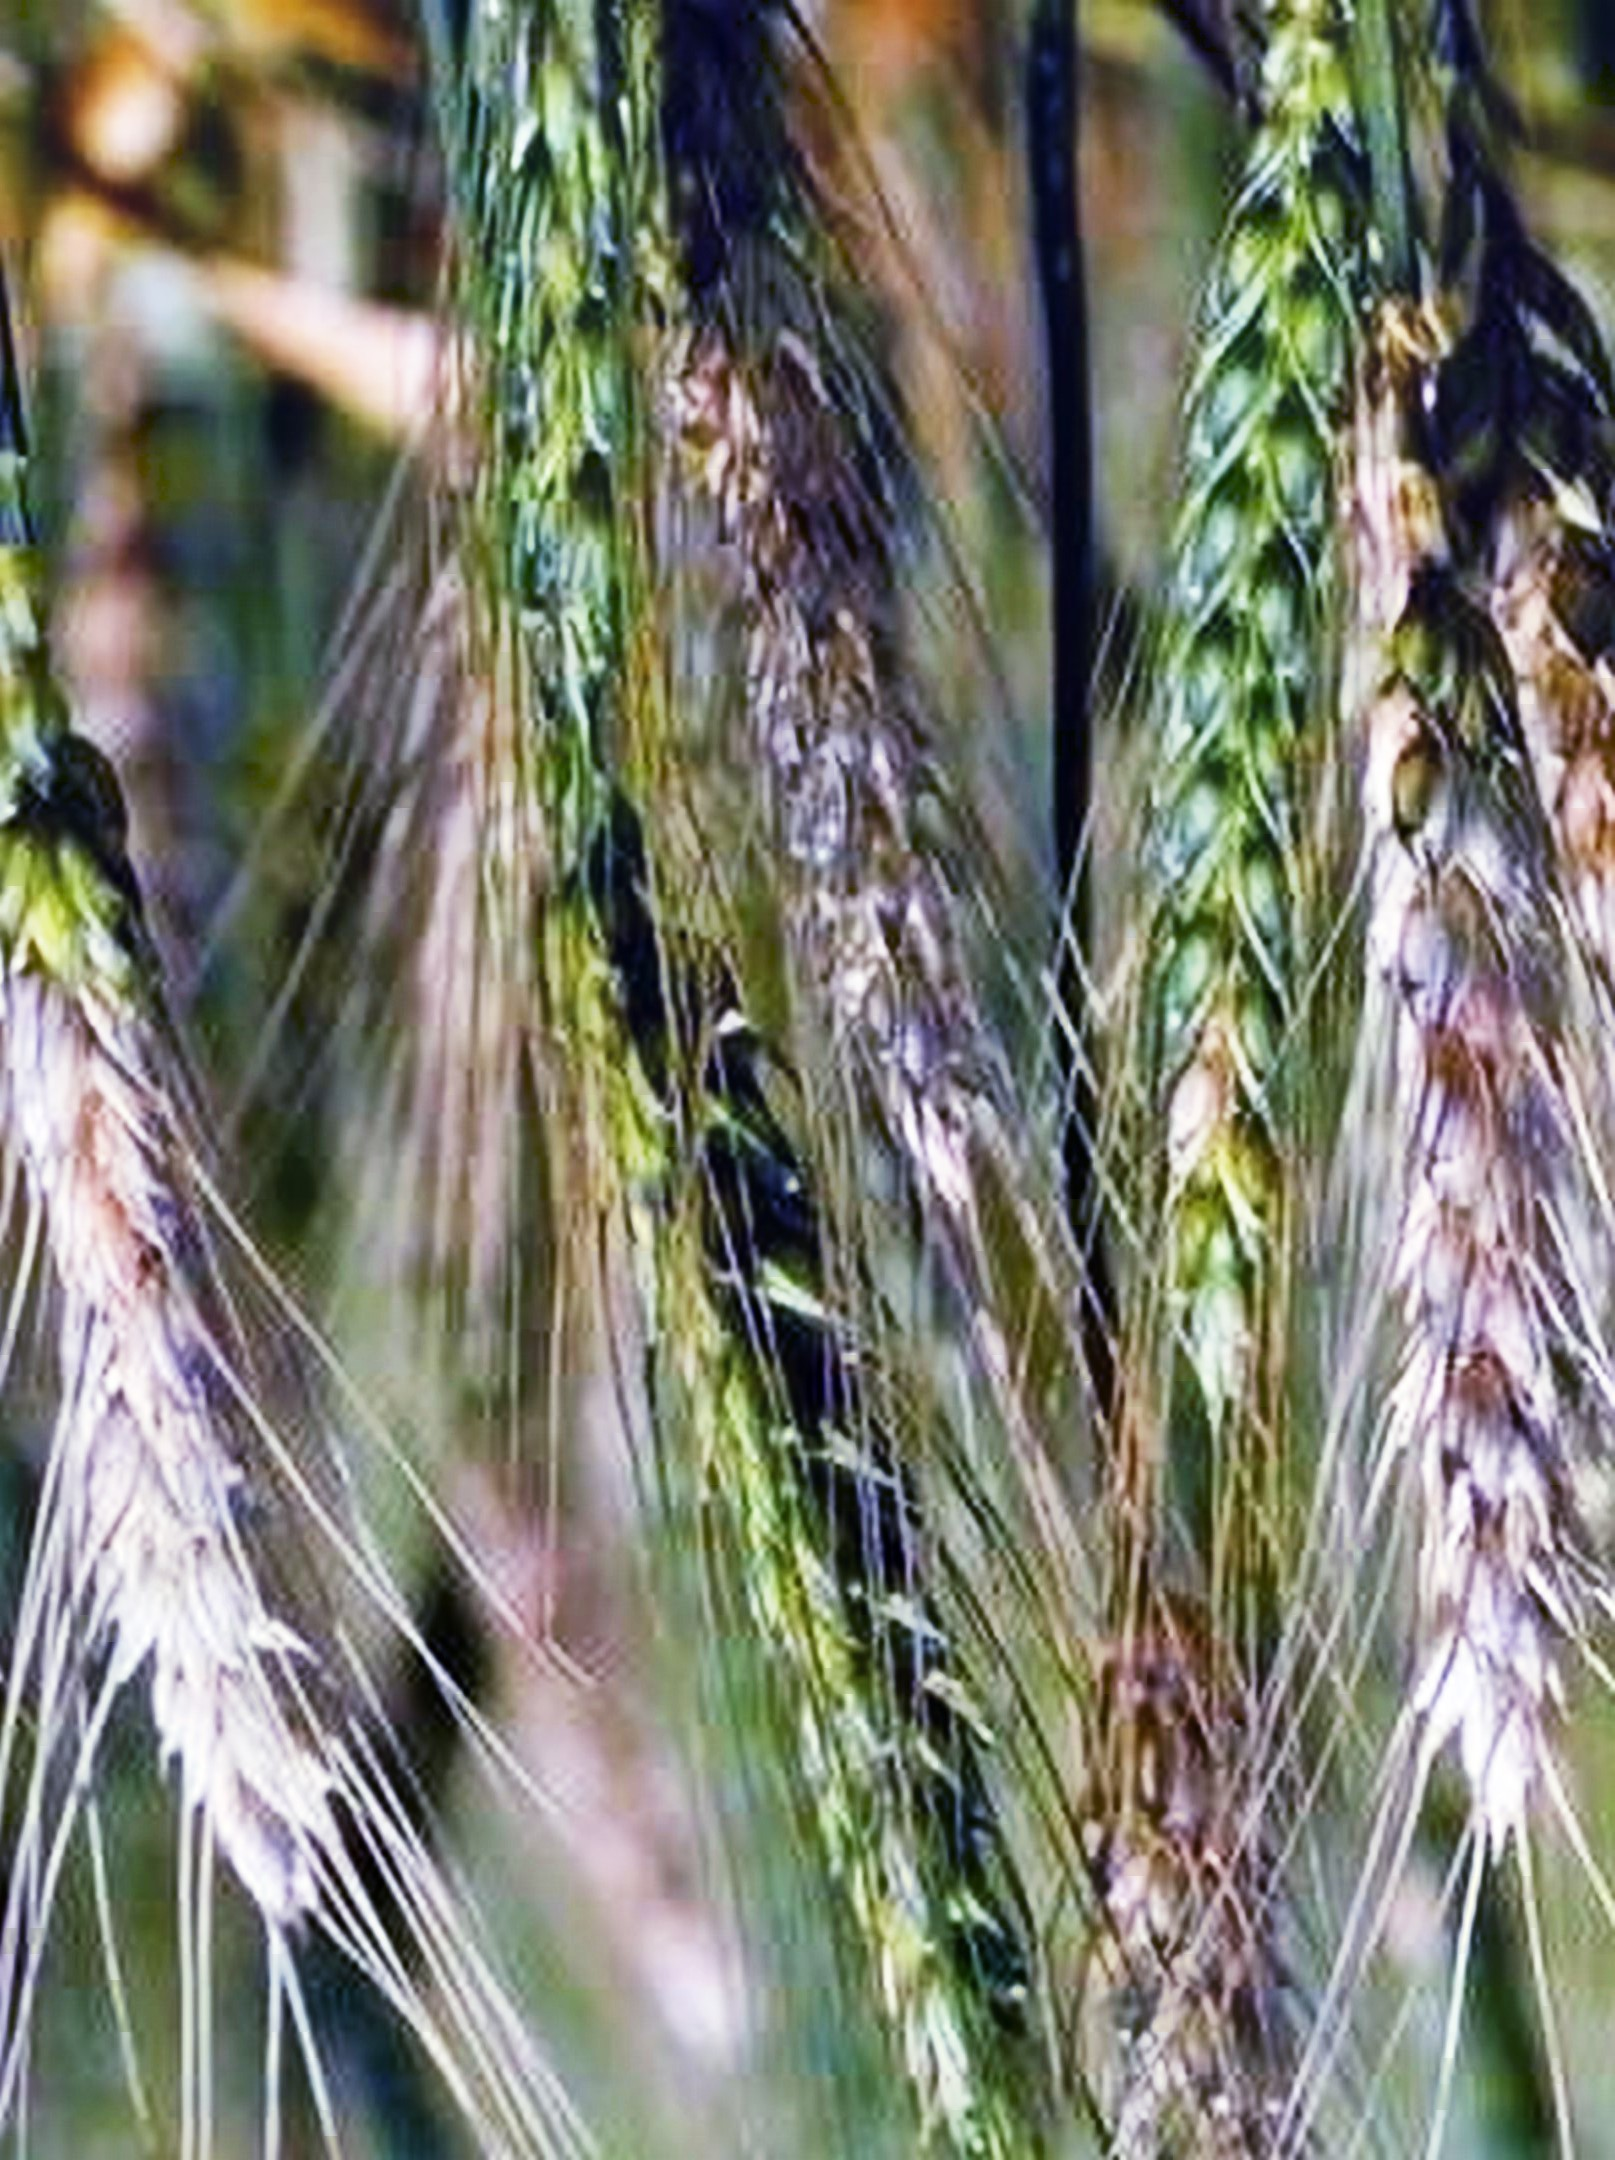Wheat scab: (2, 648, 392, 1984), (1310, 533, 1615, 1799)
